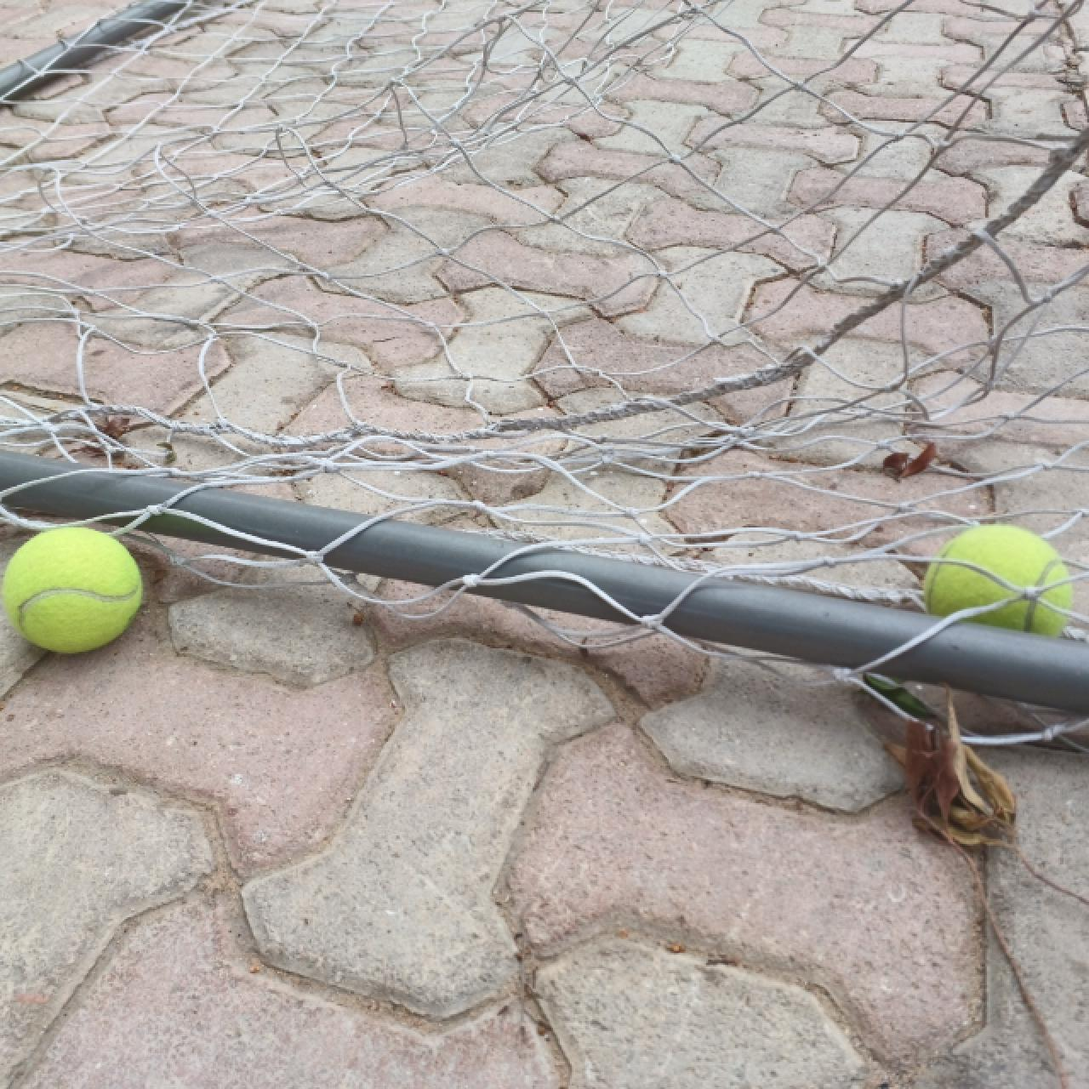tennis-ball: (922, 523, 1072, 654), (0, 524, 145, 654)
